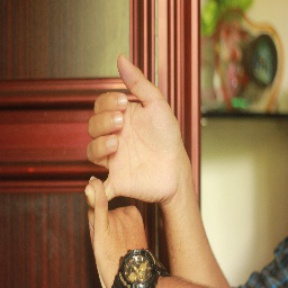S: (78, 51, 187, 284)
